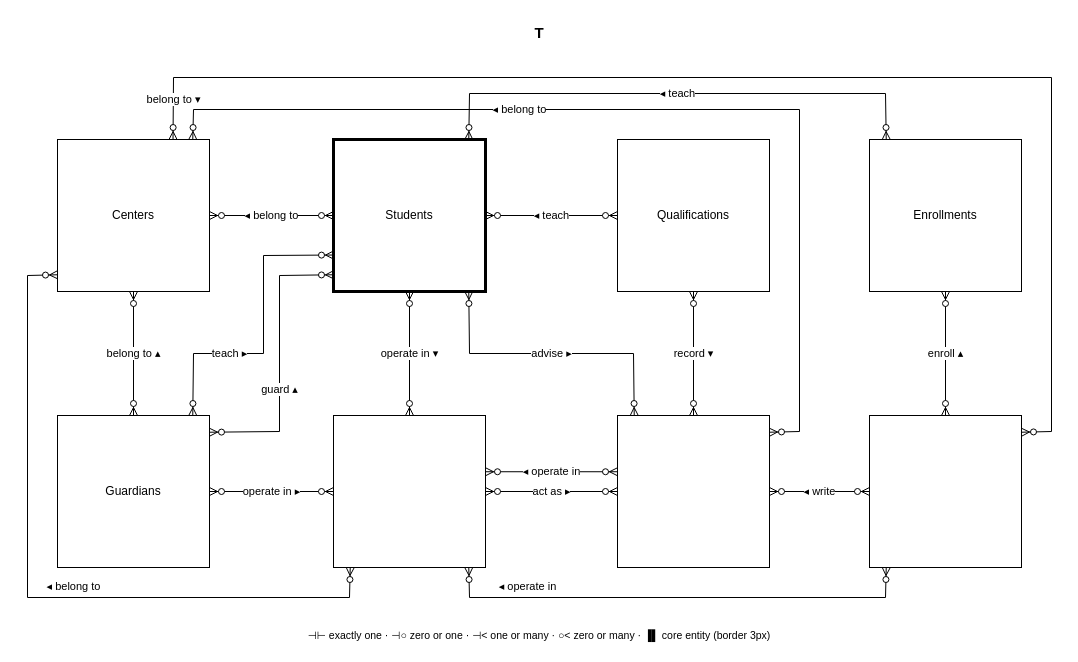
Some shapes in this 1078 by 662 pixel diagram are drawn without their labels. Each missing label, with the centre of its shape:
Branches: (409,491)
Student Notes: (945,491)
Users: (693,491)
